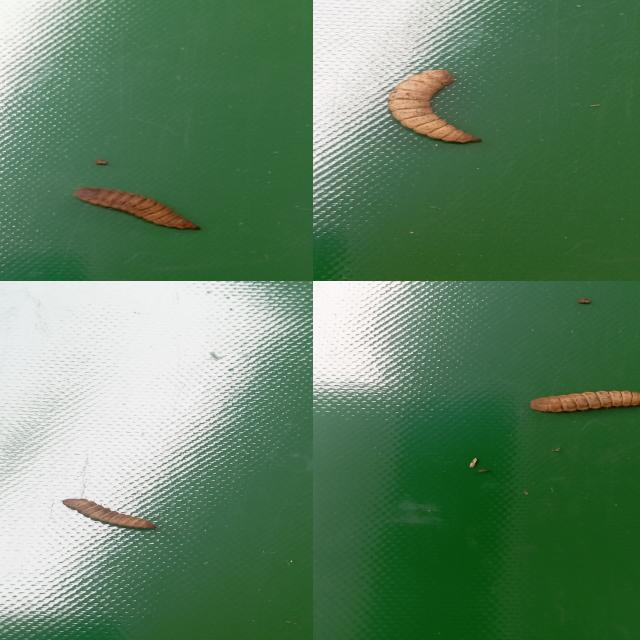Maggot: (388, 70, 481, 147), (72, 188, 201, 233), (61, 498, 155, 533), (528, 391, 640, 416)
